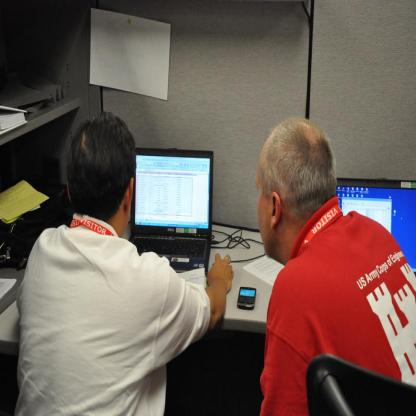board: (125, 146, 217, 272), (337, 179, 416, 278)
